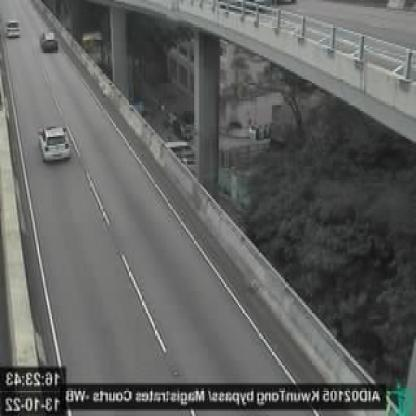Car: (38, 124, 72, 164), (40, 29, 59, 52), (4, 17, 20, 38)
